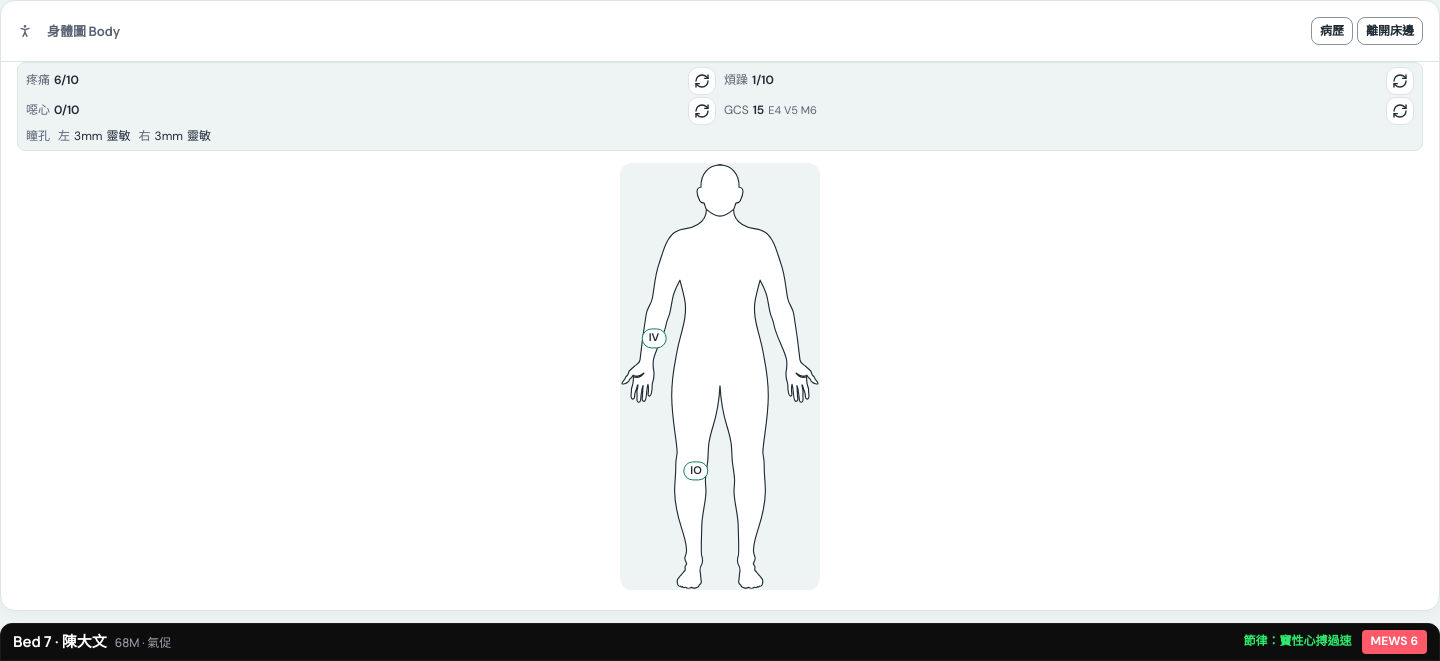
Scenario: 房間取代平面圖 › 打開病歷時喺同一欄推開身體圖，唔覆蓋
The image size is (1440, 661).
What coordinates should you click on to do the following:
click the button with test id "open-medical-record"
I would click on:
 (1332, 31)
Its box is [1311,17,1353,45].
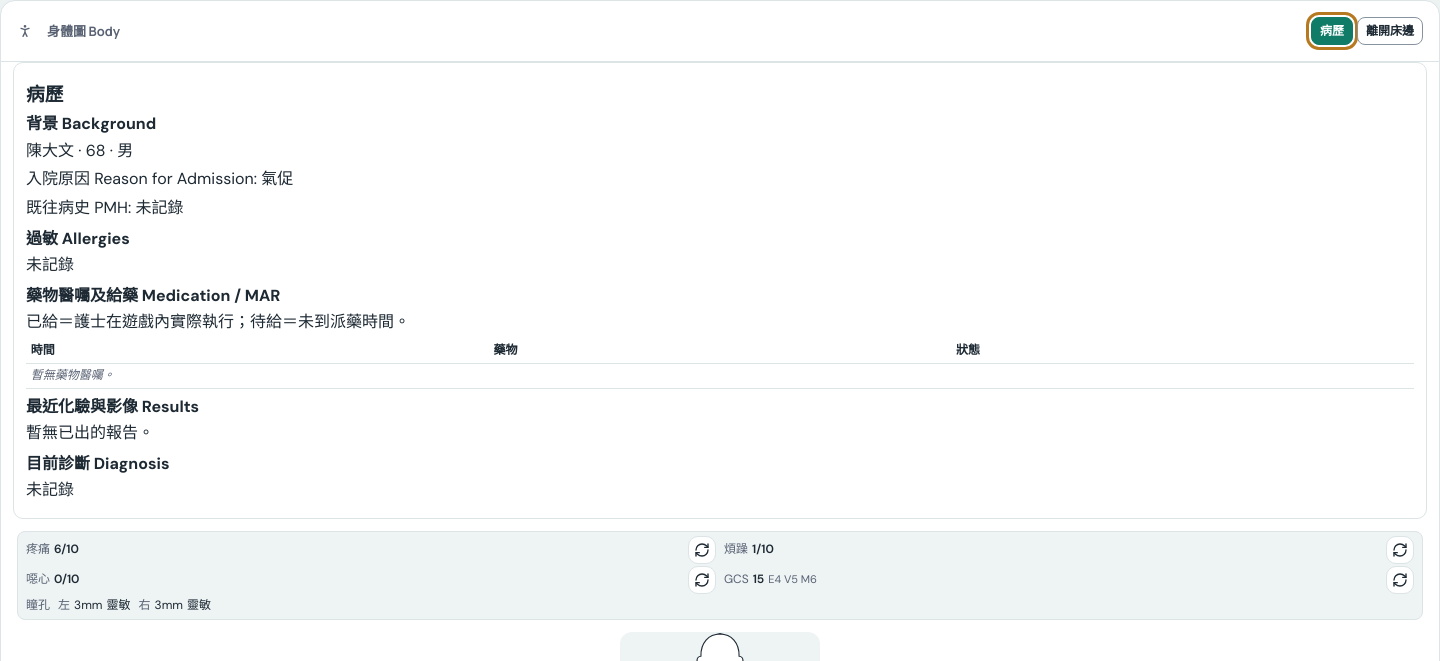
Expected: the element with test id "neuro-strip" is shown, [17,531,1423,620]
What coordinates should you click on to do the following:
click the button with test id "open-medical-record"
I would click on:
 (1332, 31)
Its box is [1311,17,1353,45].
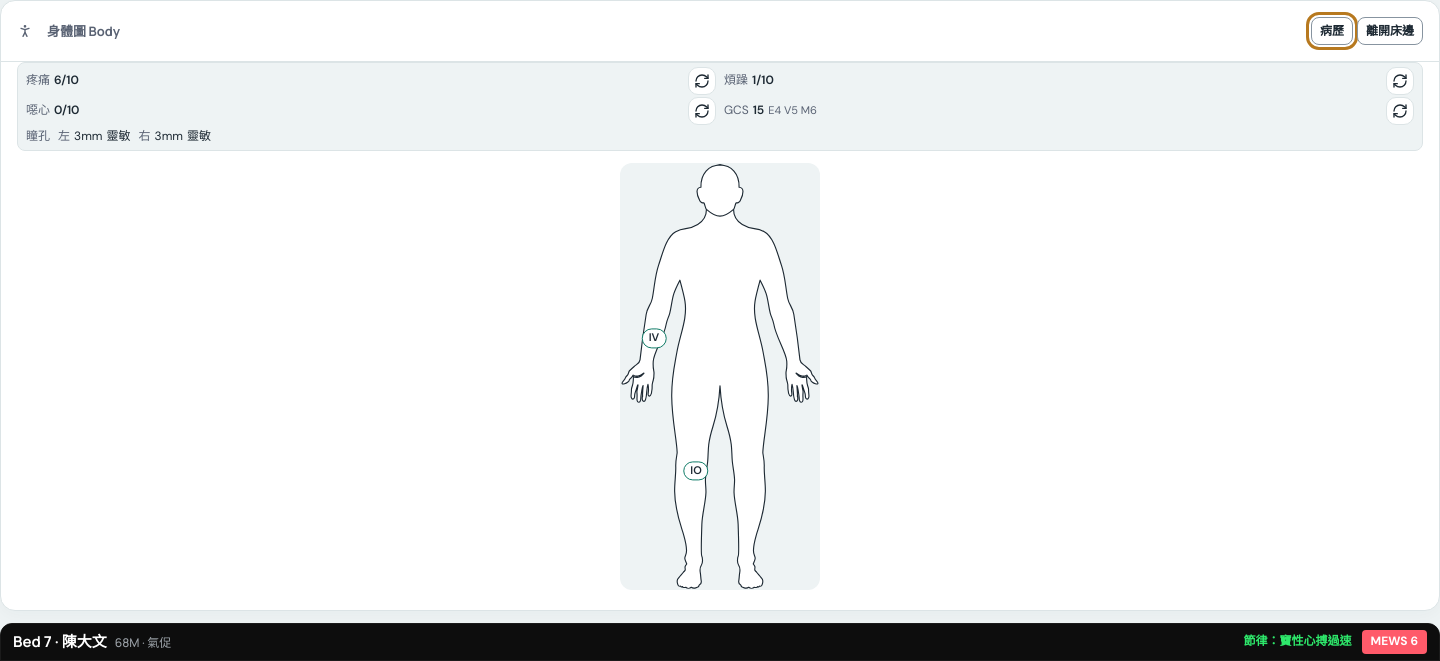
Expected: the element with test id "neuro-strip" is shown, [17,62,1423,151]
Now the element with test id "body-diagram" has attribute data-record-open="false"
